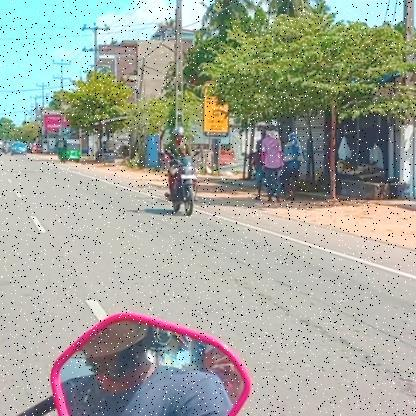motorcycle: (160, 155, 204, 218)
